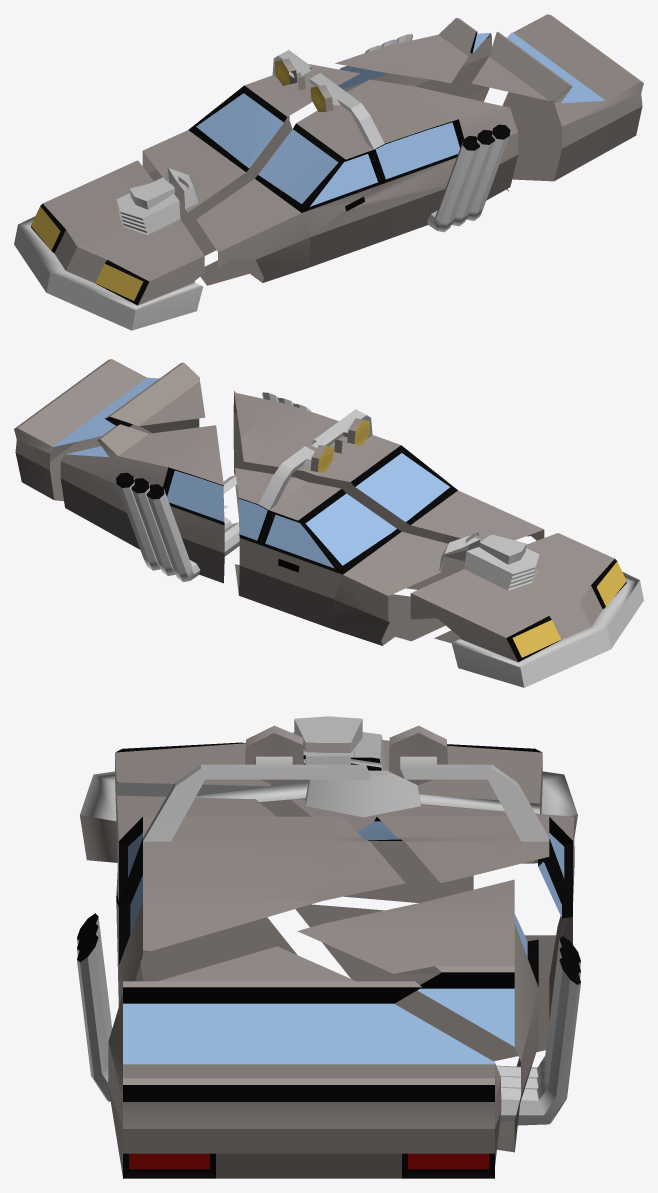
The model's file is V8 Interceptor 412 Destruct.fbx.
The picture shows the model from 3 angles, top to bottom: view 1: azimuth 30°, elevation 25°; view 2: azimuth 150°, elevation 25°; view 3: azimuth 270°, elevation 25°; orthographic projection. The views are drawn at different scales.
Parts seen in each view (by area): view 1: polySurface61, polySurface48, polySurface58, polySurface60, polySurface59, polySurface53, polySurface52, polySurface51; view 2: polySurface60, polySurface48, polySurface59, polySurface61, polySurface58; view 3: polySurface58, polySurface61, polySurface60, polySurface59, polySurface48, polySurface52.
Part boxes in pixels (<box>): polySurface61: <box>196,73,518,285</box>; polySurface48: <box>14,160,204,330</box>; polySurface58: <box>471,14,643,191</box>; polySurface60: <box>142,50,359,255</box>; polySurface59: <box>335,18,491,101</box>; polySurface53: <box>427,136,479,232</box>; polySurface52: <box>466,124,510,220</box>; polySurface51: <box>451,130,494,226</box>; polySurface60: <box>235,445,479,645</box>; polySurface48: <box>410,533,643,687</box>; polySurface59: <box>60,424,239,583</box>; polySurface61: <box>233,391,544,589</box>; polySurface58: <box>14,359,236,501</box>; polySurface58: <box>108,946,501,1178</box>; polySurface61: <box>116,725,405,1006</box>; polySurface60: <box>290,725,574,1061</box>; polySurface59: <box>297,879,580,1152</box>; polySurface48: <box>80,716,577,902</box>; polySurface52: <box>77,934,110,1101</box>.
Bounding box in the file's own units: 21.75 × 5.88 × 8.69.
